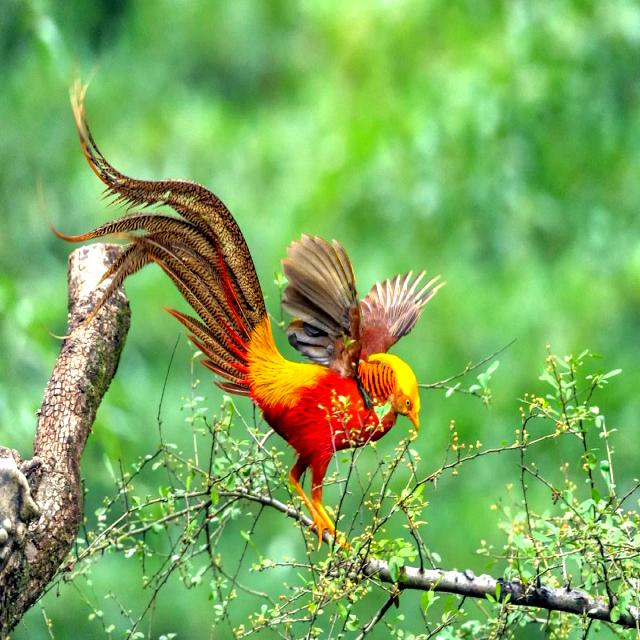Chrysolophus pictus feather: (50, 81, 267, 396)
